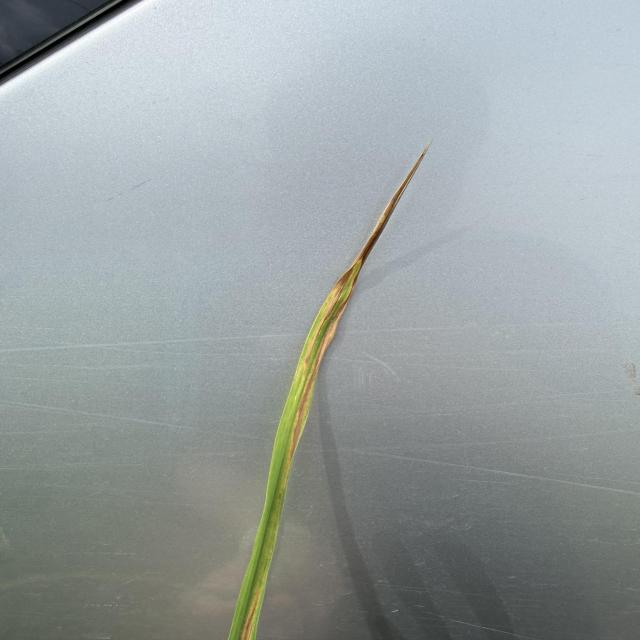Chay bia la: (281, 147, 425, 487)
